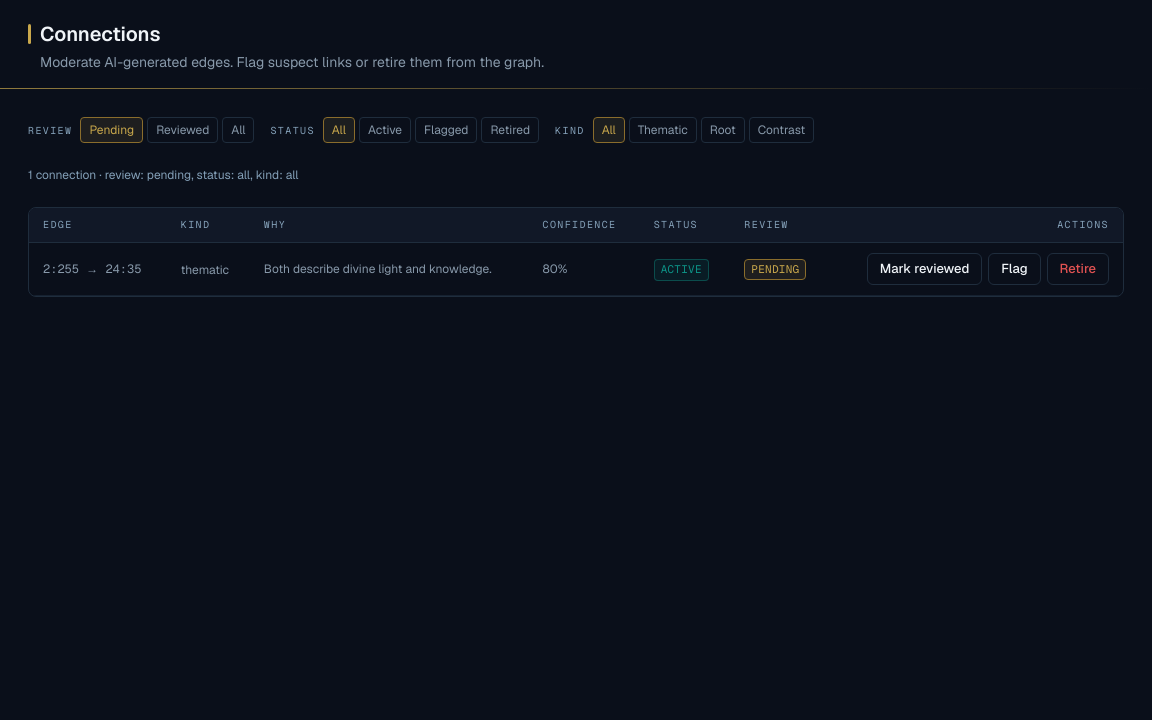
Test: ConnectionsPage — filter summary › offers Reset filters only once a filter has moved off its default, and restores them
The width and height of the screenshot is (1152, 720).
Check: the text "2:255 → 24:35" is shown, box [29,243,167,296]
Check: the button "Reset filters" is not shown
Click the button "Retired" at (510, 130), box [482,117,539,143]
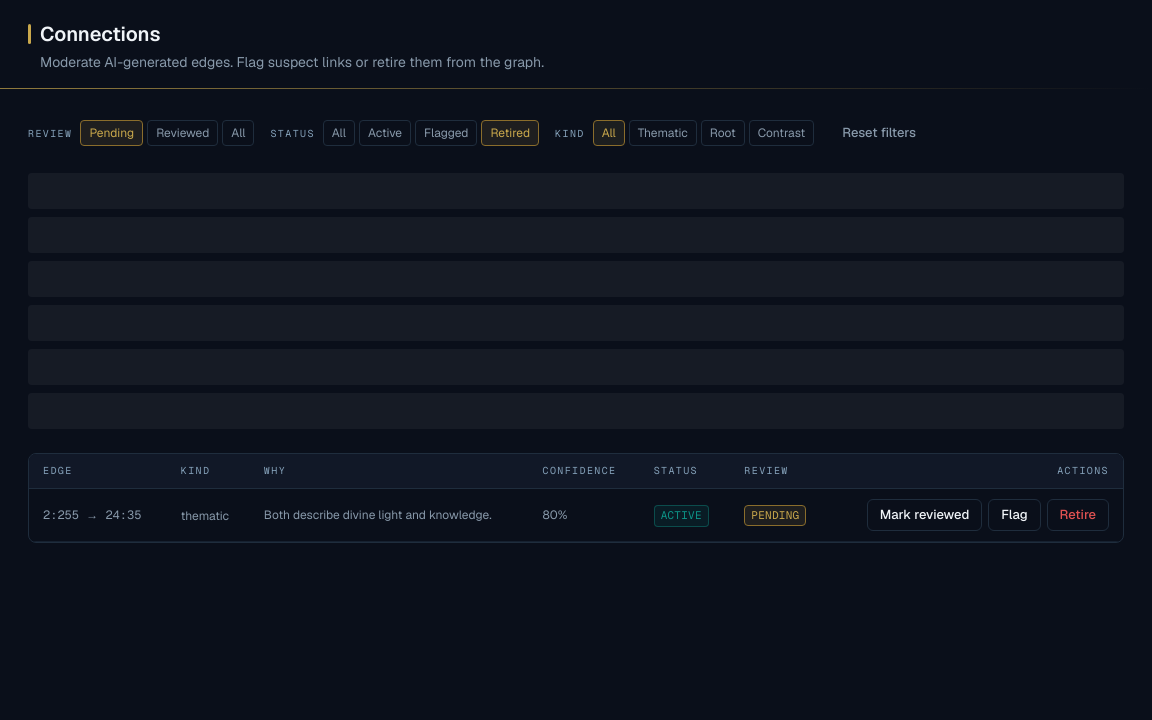
Click the button "Reset filters" at (879, 133), box [830,117,928,149]
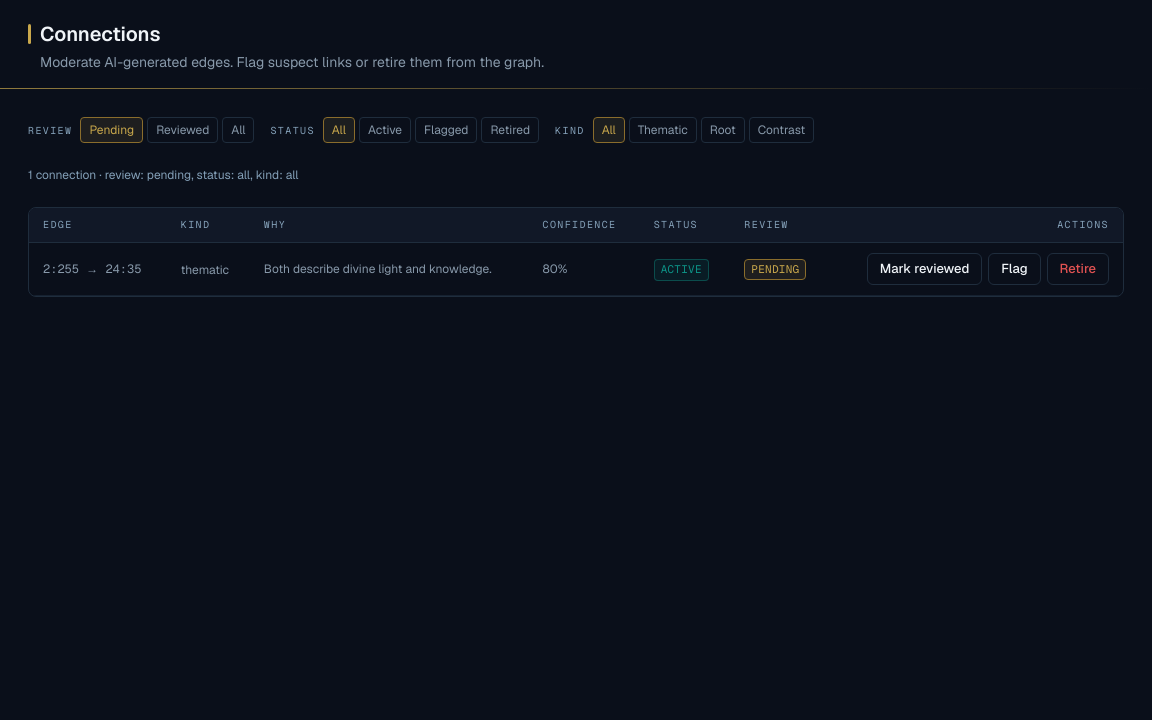
Check: the button "Reset filters" is gone
Check: the text "1 connection · review: pending, status: all, kind: all" is shown, box [28,167,298,183]
